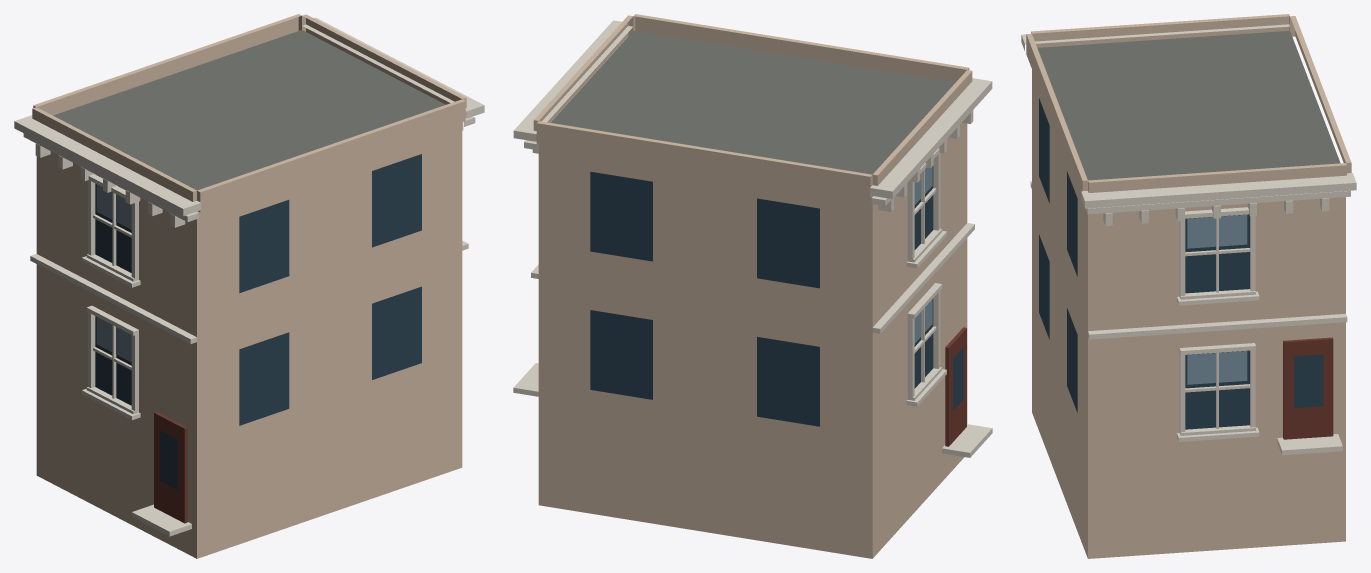
3 views of the same model, side by side, from view 1: azimuth 30°, elevation 25°; view 2: azimuth 150°, elevation 25°; view 3: azimuth 270°, elevation 25° (orthographic). The views are drawn at different scales.
Visible parts, largest first — view 1: Footprint 0 / surface 2, Footprint 0 / surface 1, Inset glazing, Facade bay volumes, Cornices and window frames, Storefronts and doors, Sky reflection panels; view 2: Footprint 0 / surface 2, Footprint 0 / surface 1, Inset glazing, Facade bay volumes, Cornices and window frames, Storefronts and doors, Sky reflection panels; view 3: Footprint 0 / surface 2, Footprint 0 / surface 1, Cornices and window frames, Facade bay volumes, Inset glazing, Storefronts and doors, Sky reflection panels.
Part boxes in pixels (x1,y1,x2,y2): Footprint 0 / surface 2: (36,122,462,558); Footprint 0 / surface 1: (53,30,445,190); Inset glazing: (95,154,421,489); Facade bay volumes: (32,14,466,212); Cornices and window frames: (14,17,484,536); Storefronts and doors: (154,412,187,523); Sky reflection panels: (96,184,131,362); Footprint 0 / surface 2: (538,123,967,558); Footprint 0 / surface 1: (550,31,955,174); Inset glazing: (590,166,963,426); Facade bay volumes: (533,14,972,197); Cornices and window frames: (513,20,992,457); Storefronts and doors: (945,327,966,446); Sky reflection panels: (914,166,932,343); Footprint 0 / surface 2: (1032,70,1345,558); Footprint 0 / surface 1: (1037,30,1340,180); Cornices and window frames: (1021,24,1356,455); Facade bay volumes: (1026,14,1351,197); Inset glazing: (1039,98,1323,429); Storefronts and doors: (1283,337,1333,439); Sky reflection panels: (1187,214,1247,384).
Bounding box in the file's own units: 9.58 × 9.14 × 7.34.
